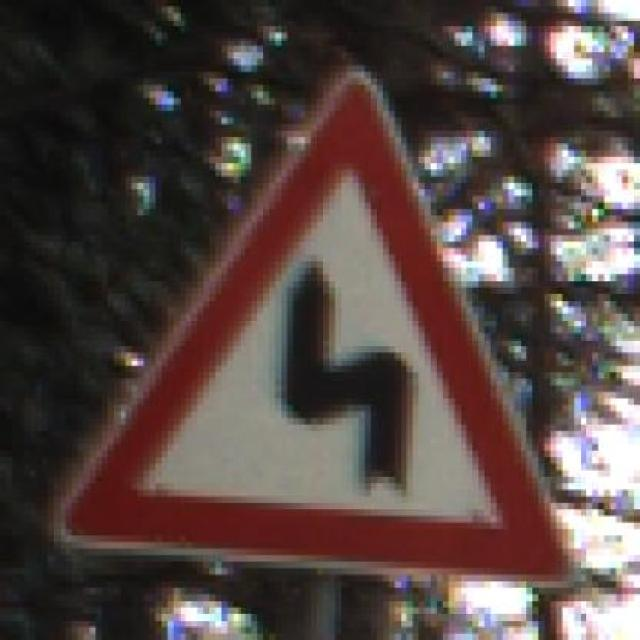Left Zig Zag Traffic: (60, 58, 598, 594)
